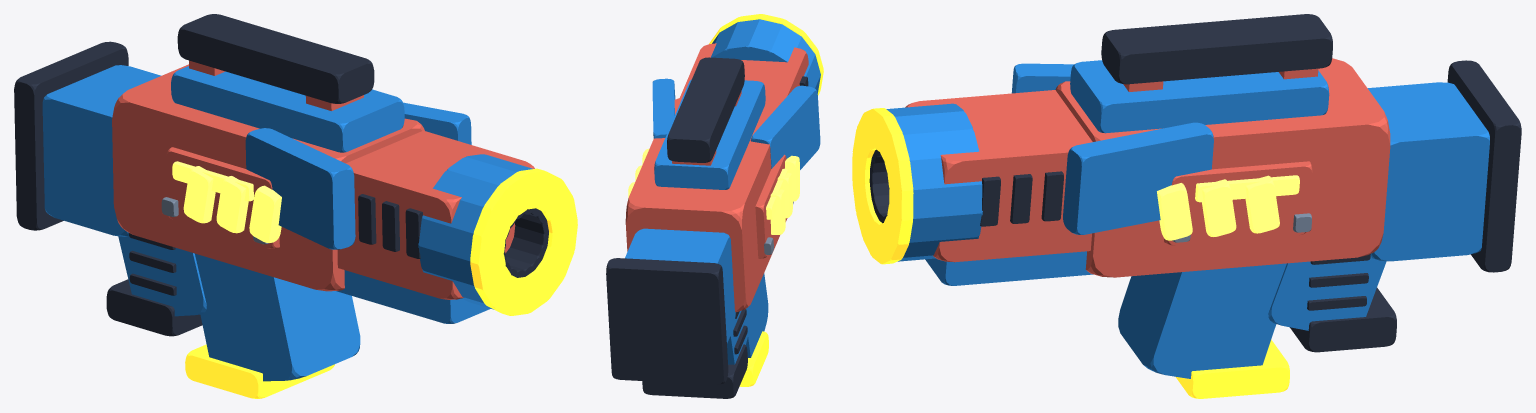
File: AssaultRifle.fbx
The picture shows the model from 3 angles, left to right: view 1: azimuth 30°, elevation 25°; view 2: azimuth 150°, elevation 25°; view 3: azimuth 270°, elevation 25°; orthographic projection. The views are drawn at different scales.
Parts seen in each view (by area): view 1: Weapon_AssaultRifle_Body, Weapon_AssaultRifle_Magazine, Weapon_AssaultRifle_Barrel, Weapon_AssaultRifle_Stock, Weapon_AssaultRifle_Accent, Weapon_AssaultRifle_CarryRail, Weapon_AssaultRifle_MuzzleRim, Weapon_AssaultRifle_Wing_-1, Weapon_AssaultRifle_StockPad, Weapon_AssaultRifle_MuzzleCollar, Weapon_AssaultRifle_Grip, Weapon_AssaultRifle_UnderRail (+14 smaller); view 2: Weapon_AssaultRifle_StockPad, Weapon_AssaultRifle_Body, Weapon_AssaultRifle_CarryRail, Weapon_AssaultRifle_Accent, Weapon_AssaultRifle_Stock, Weapon_AssaultRifle_Wing_-1, Weapon_AssaultRifle_MuzzleCollar, Weapon_AssaultRifle_Barrel, Weapon_AssaultRifle_GripHeel, Weapon_AssaultRifle_Wing_1, Weapon_AssaultRifle_SidePlate_-1, Weapon_AssaultRifle_Magazine (+7 smaller); view 3: Weapon_AssaultRifle_Body, Weapon_AssaultRifle_Stock, Weapon_AssaultRifle_Barrel, Weapon_AssaultRifle_Magazine, Weapon_AssaultRifle_CarryRail, Weapon_AssaultRifle_Accent, Weapon_AssaultRifle_Wing_1, Weapon_AssaultRifle_MuzzleCollar, Weapon_AssaultRifle_StockPad, Weapon_AssaultRifle_MuzzleRim, Weapon_AssaultRifle_SidePlate_1, Weapon_AssaultRifle_Grip (+14 smaller).
Part boxes in pixels (x1,y1,x2,y2): Weapon_AssaultRifle_Body: (112,64,424,291); Weapon_AssaultRifle_Magazine: (195,253,360,381); Weapon_AssaultRifle_Barrel: (337,130,534,299); Weapon_AssaultRifle_Stock: (42,65,161,236); Weapon_AssaultRifle_Accent: (171,66,404,152); Weapon_AssaultRifle_CarryRail: (177,14,374,103); Weapon_AssaultRifle_MuzzleRim: (470,168,577,315); Weapon_AssaultRifle_Wing_-1: (245,128,355,249); Weapon_AssaultRifle_StockPad: (14,41,128,230); Weapon_AssaultRifle_MuzzleCollar: (418,154,532,309); Weapon_AssaultRifle_Grip: (118,236,206,316); Weapon_AssaultRifle_UnderRail: (336,270,490,323); Weapon_AssaultRifle_StockPad: (606,258,728,384); Weapon_AssaultRifle_Body: (625,97,787,311); Weapon_AssaultRifle_CarryRail: (667,57,744,162); Weapon_AssaultRifle_Accent: (654,79,765,189); Weapon_AssaultRifle_Stock: (625,228,735,343); Weapon_AssaultRifle_Wing_-1: (750,85,820,169); Weapon_AssaultRifle_MuzzleCollar: (711,19,820,93); Weapon_AssaultRifle_Barrel: (680,43,808,103); Weapon_AssaultRifle_GripHeel: (642,344,747,398); Weapon_AssaultRifle_Wing_1: (652,78,675,138); Weapon_AssaultRifle_SidePlate_-1: (755,154,786,258); Weapon_AssaultRifle_Magazine: (746,273,768,357); Weapon_AssaultRifle_Body: (1055,58,1390,277); Weapon_AssaultRifle_Stock: (1367,82,1489,261); Weapon_AssaultRifle_Barrel: (905,90,1092,262); Weapon_AssaultRifle_Magazine: (1118,263,1286,378); Weapon_AssaultRifle_CarryRail: (1101,14,1332,84); Weapon_AssaultRifle_Accent: (1070,60,1329,133); Weapon_AssaultRifle_Wing_1: (1063,122,1213,234); Weapon_AssaultRifle_MuzzleCollar: (886,103,982,261); Weapon_AssaultRifle_StockPad: (1447,60,1521,272); Weapon_AssaultRifle_MuzzleRim: (852,108,913,264); Weapon_AssaultRifle_SidePlate_1: (1164,161,1312,245); Weapon_AssaultRifle_Grip: (1268,255,1386,330).
Bounding box in the file's own units: 68.88 × 76.19 × 131.
